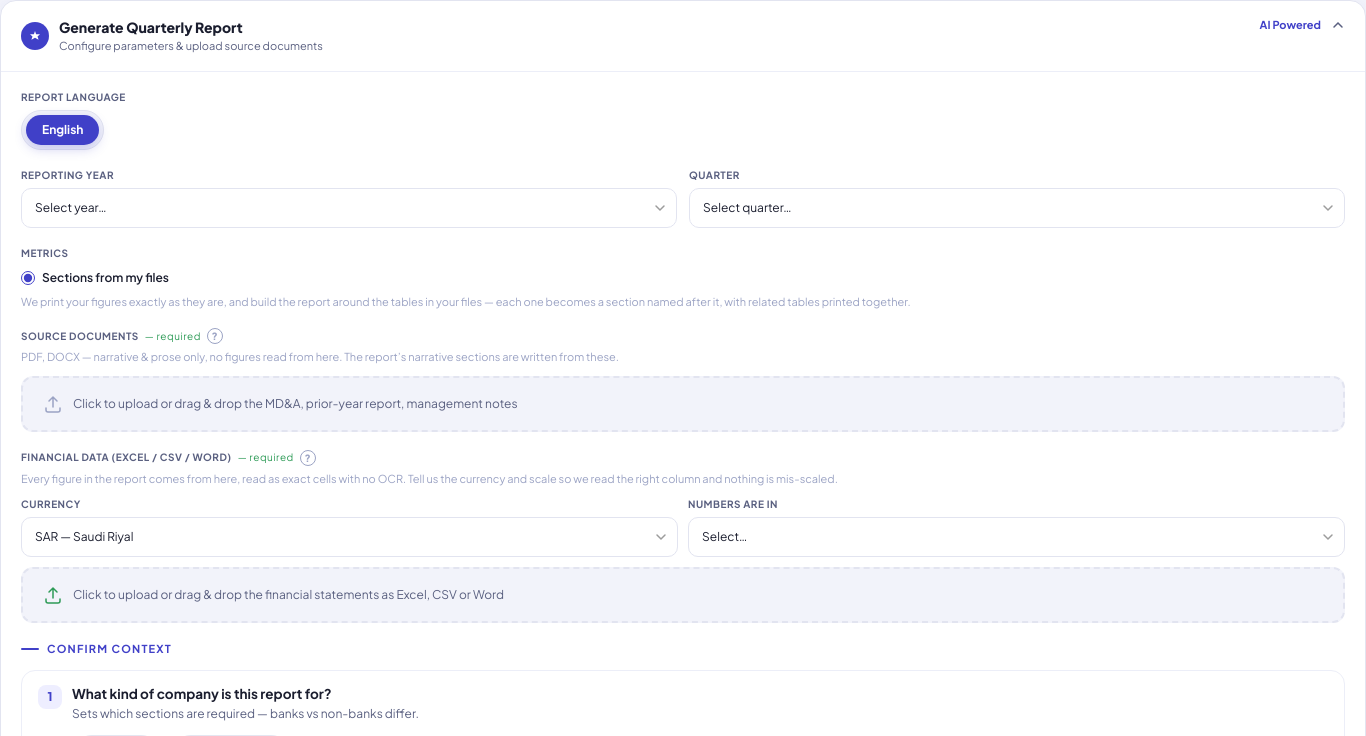
Test: upload help panels › lists the source-document types on click
Click the button named "what to upload as source documents" at (215, 336), box [207, 328, 223, 344]
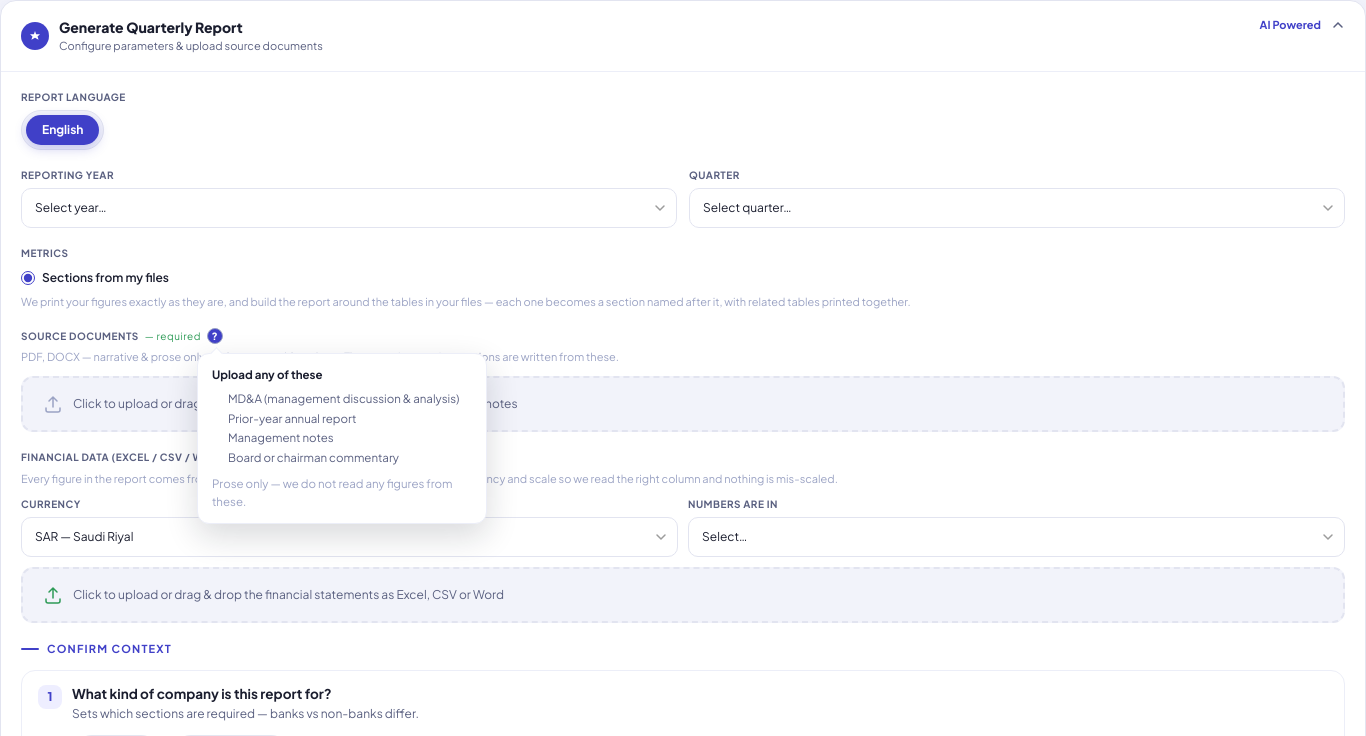
Expected: the element named "source documents" shows "MD&A", [228, 391, 460, 406]
Expected: the element named "source documents" shows "Prior-year annual report", [228, 411, 356, 426]
Expected: the element named "source documents" shows "Management notes", [228, 430, 334, 445]
